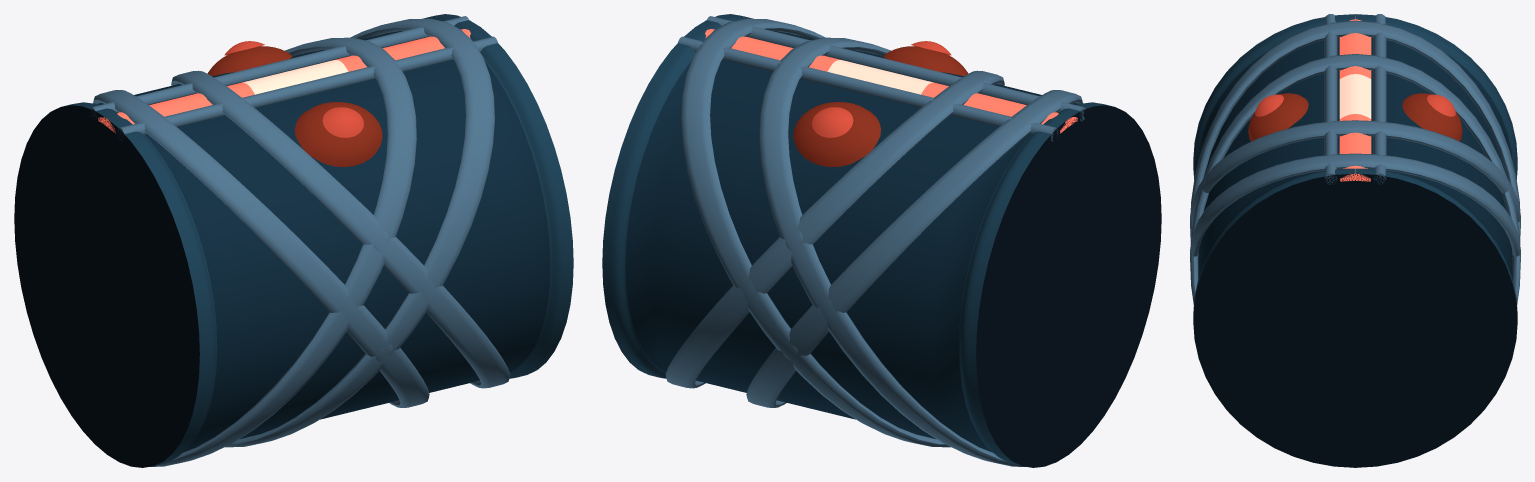
File: maze_pipe_cage_119.glb
3 views of the same model, side by side, from view 1: azimuth 30°, elevation 25°; view 2: azimuth 150°, elevation 25°; view 3: azimuth 270°, elevation 25° (orthographic). The views are drawn at different scales.
Parts seen in each view (by area): view 1: pipe, hoop3, hoop1, hoop2, hoop0, band, rail-1, core-1, rail1, core1, heart-1; view 2: pipe, hoop3, hoop1, hoop2, hoop0, band, rail1, core1, rail-1, core-1, heart1; view 3: pipe, hoop2, hoop0, hoop3, hoop1, band, rail-1, rail1, core-1, core1, heart1, heart-1.
Boxes of the visible parts, bbox=[...] form: pipe: bbox=[14, 14, 573, 467]; hoop3: bbox=[225, 18, 494, 447]; hoop1: bbox=[150, 37, 416, 466]; hoop2: bbox=[93, 90, 429, 407]; hoop0: bbox=[171, 70, 510, 388]; band: bbox=[98, 29, 470, 133]; rail-1: bbox=[117, 36, 497, 140]; core-1: bbox=[295, 102, 382, 167]; rail1: bbox=[90, 16, 468, 119]; core1: bbox=[207, 46, 292, 75]; heart-1: bbox=[322, 107, 363, 137]; pipe: bbox=[602, 14, 1161, 467]; hoop3: bbox=[681, 18, 950, 447]; hoop1: bbox=[759, 37, 1025, 466]; hoop2: bbox=[746, 90, 1082, 407]; hoop0: bbox=[665, 70, 1004, 388]; band: bbox=[705, 29, 1077, 133]; rail1: bbox=[678, 36, 1058, 141]; core1: bbox=[793, 102, 880, 167]; rail-1: bbox=[707, 16, 1085, 121]; core-1: bbox=[883, 46, 968, 75]; heart1: bbox=[812, 107, 853, 137]; pipe: bbox=[1193, 14, 1517, 467]; hoop2: bbox=[1190, 20, 1520, 242]; hoop0: bbox=[1190, 54, 1520, 467]; hoop3: bbox=[1190, 153, 1520, 261]; hoop1: bbox=[1190, 120, 1520, 225]; band: bbox=[1339, 14, 1371, 181]; rail-1: bbox=[1324, 14, 1337, 184]; rail1: bbox=[1373, 14, 1386, 184]; core-1: bbox=[1248, 93, 1308, 141]; core1: bbox=[1402, 93, 1462, 141]; heart1: bbox=[1427, 94, 1455, 116]; heart-1: bbox=[1255, 94, 1283, 116].
Size of the model in its own units: 24 by 21.02 by 21.02.
